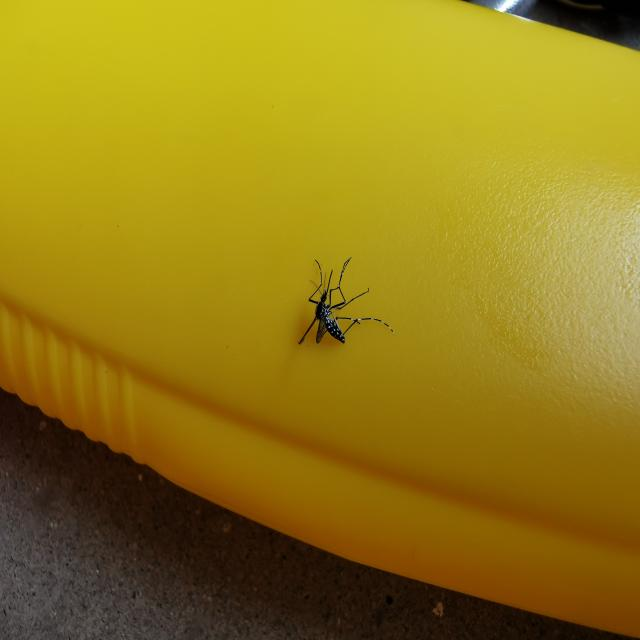albopictus: (291, 248, 394, 354)
